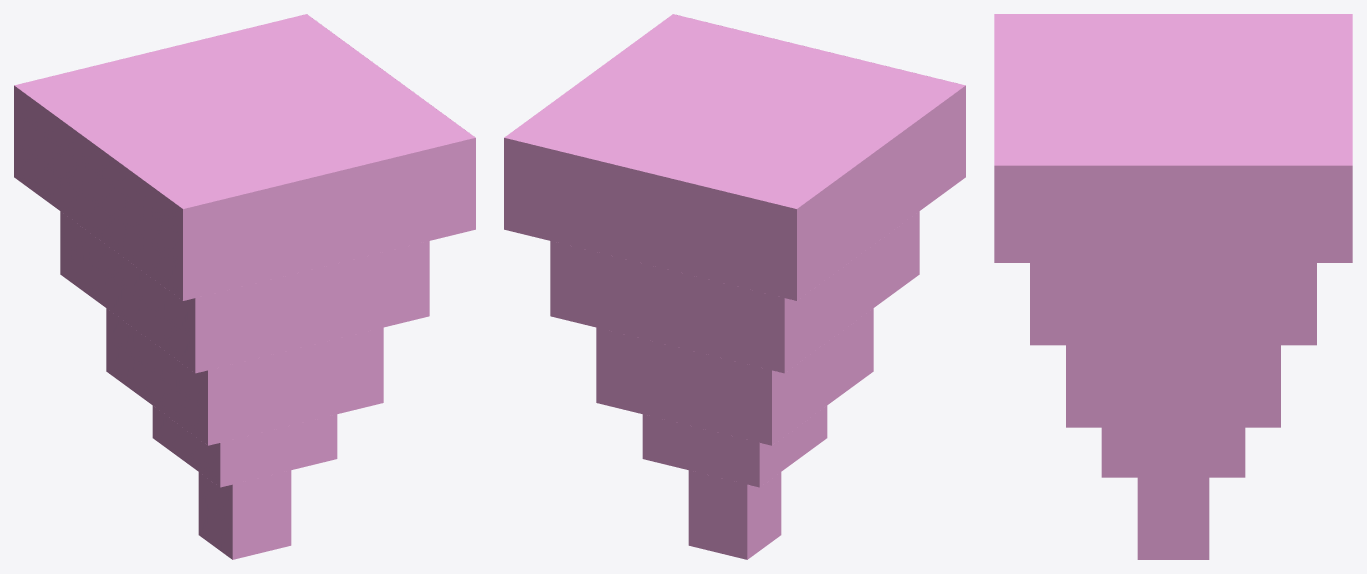
File: FaeManualTEST.obj
The picture shows the model from 3 angles, left to right: view 1: azimuth 30°, elevation 25°; view 2: azimuth 150°, elevation 25°; view 3: azimuth 270°, elevation 25°; orthographic projection. The views are drawn at different scales.
Visible parts, largest first — view 1: FaeManualTEST; view 2: FaeManualTEST; view 3: FaeManualTEST.
Boxes of the visible parts, x1,y1,x2,y2 form: FaeManualTEST: [14, 14, 475, 559]; FaeManualTEST: [504, 14, 965, 559]; FaeManualTEST: [994, 14, 1352, 559].
Size of the model in its own units: 10 by 14 by 10.
